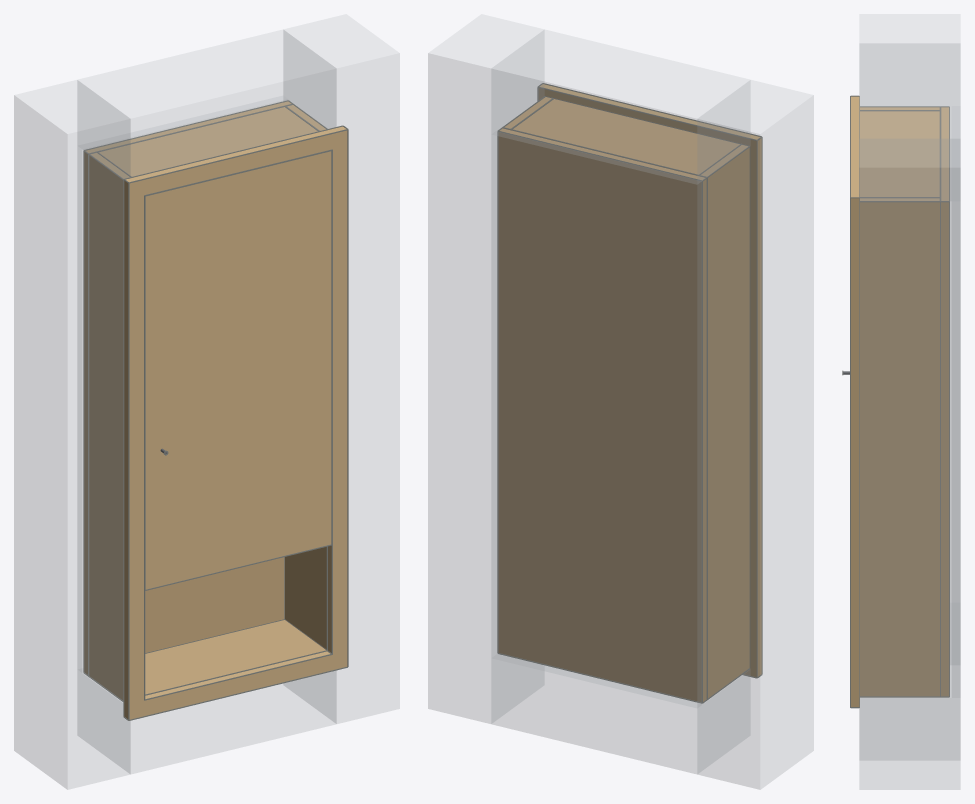
File: modell.glb
3 views of the same model, side by side, from view 1: azimuth 30°, elevation 25°; view 2: azimuth 150°, elevation 25°; view 3: azimuth 270°, elevation 25° (orthographic). The views are drawn at different scales.
Size of the model in its own units: 790 by 1490 by 257.
